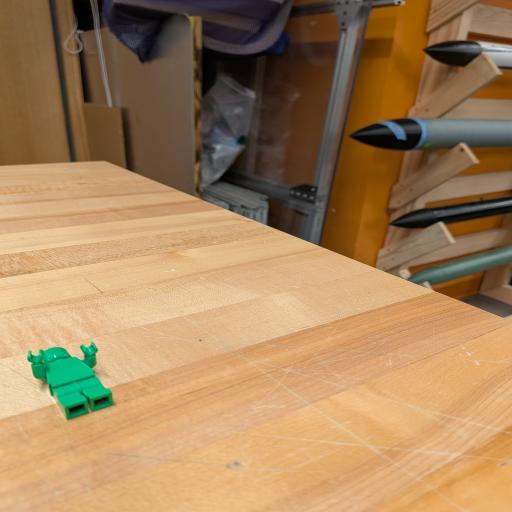Minifig: (27, 343, 113, 420)
